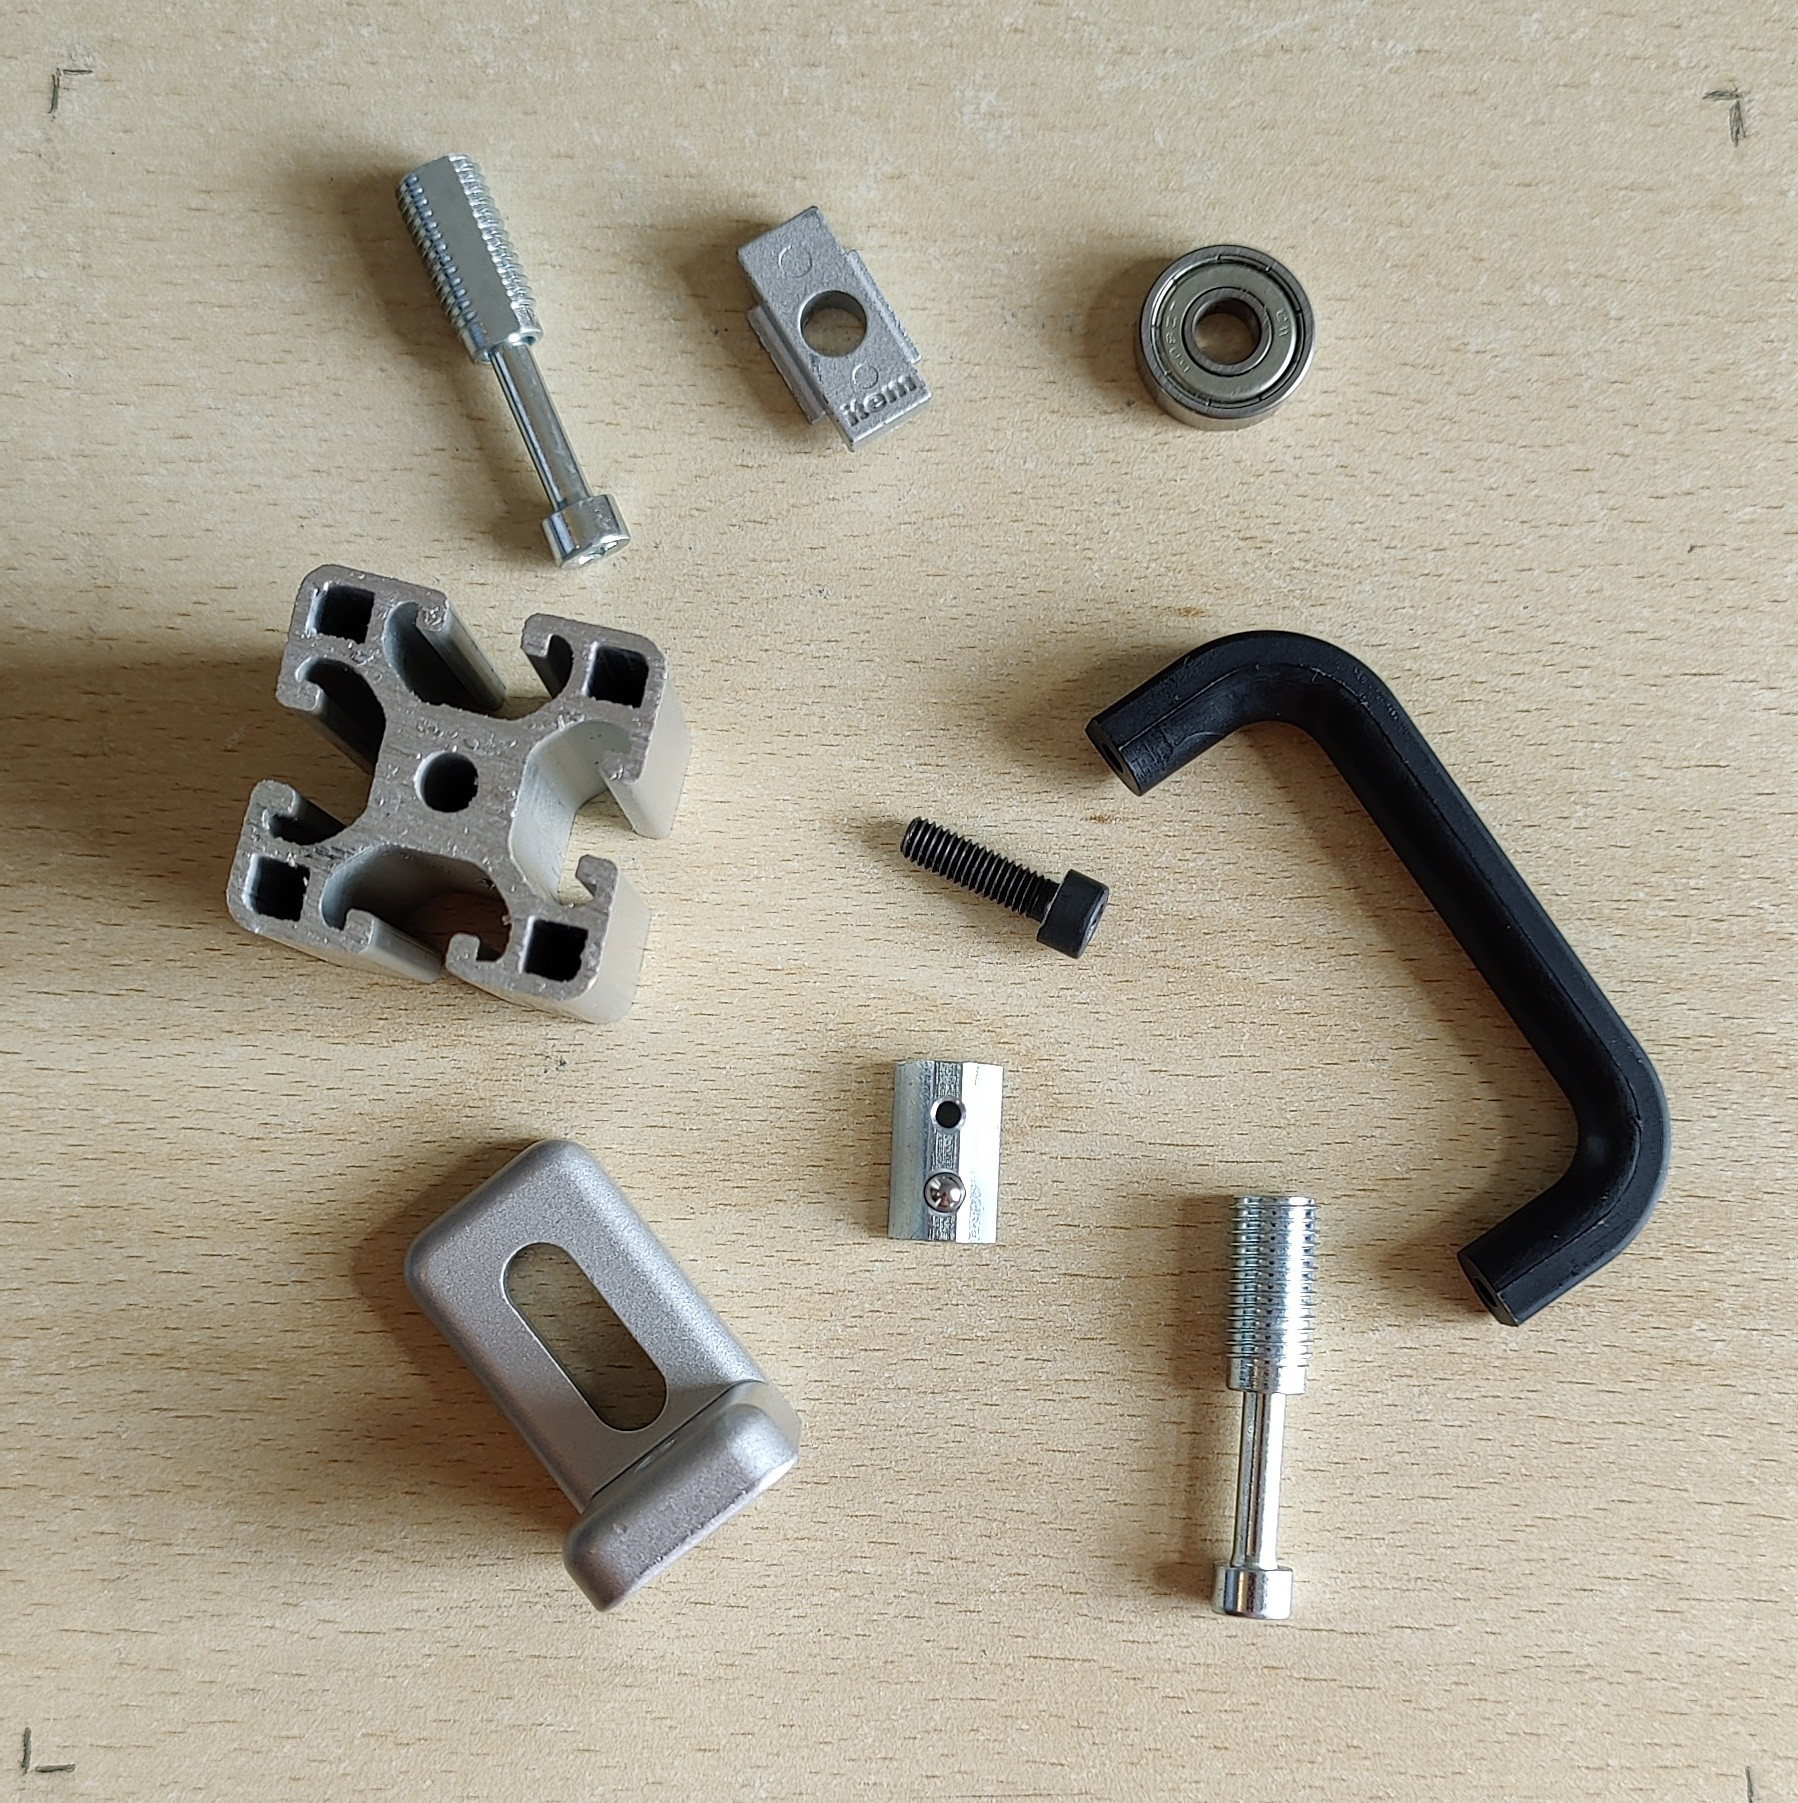Aluminium Extension: (222, 560, 695, 1027)
Ball Bearing: (1133, 244, 1319, 435)
Multiwinkel: (400, 1138, 804, 1619)
Pull Handle: (1082, 627, 1673, 1330)
Shoulder Socket Head Cap Screw: (390, 151, 636, 575), (1205, 1190, 1322, 1625)
Socket Head Cap Screw: (896, 815, 1110, 963)
T Nut Square: (733, 199, 937, 453)
T Spring Nut: (884, 1055, 1008, 1250)
